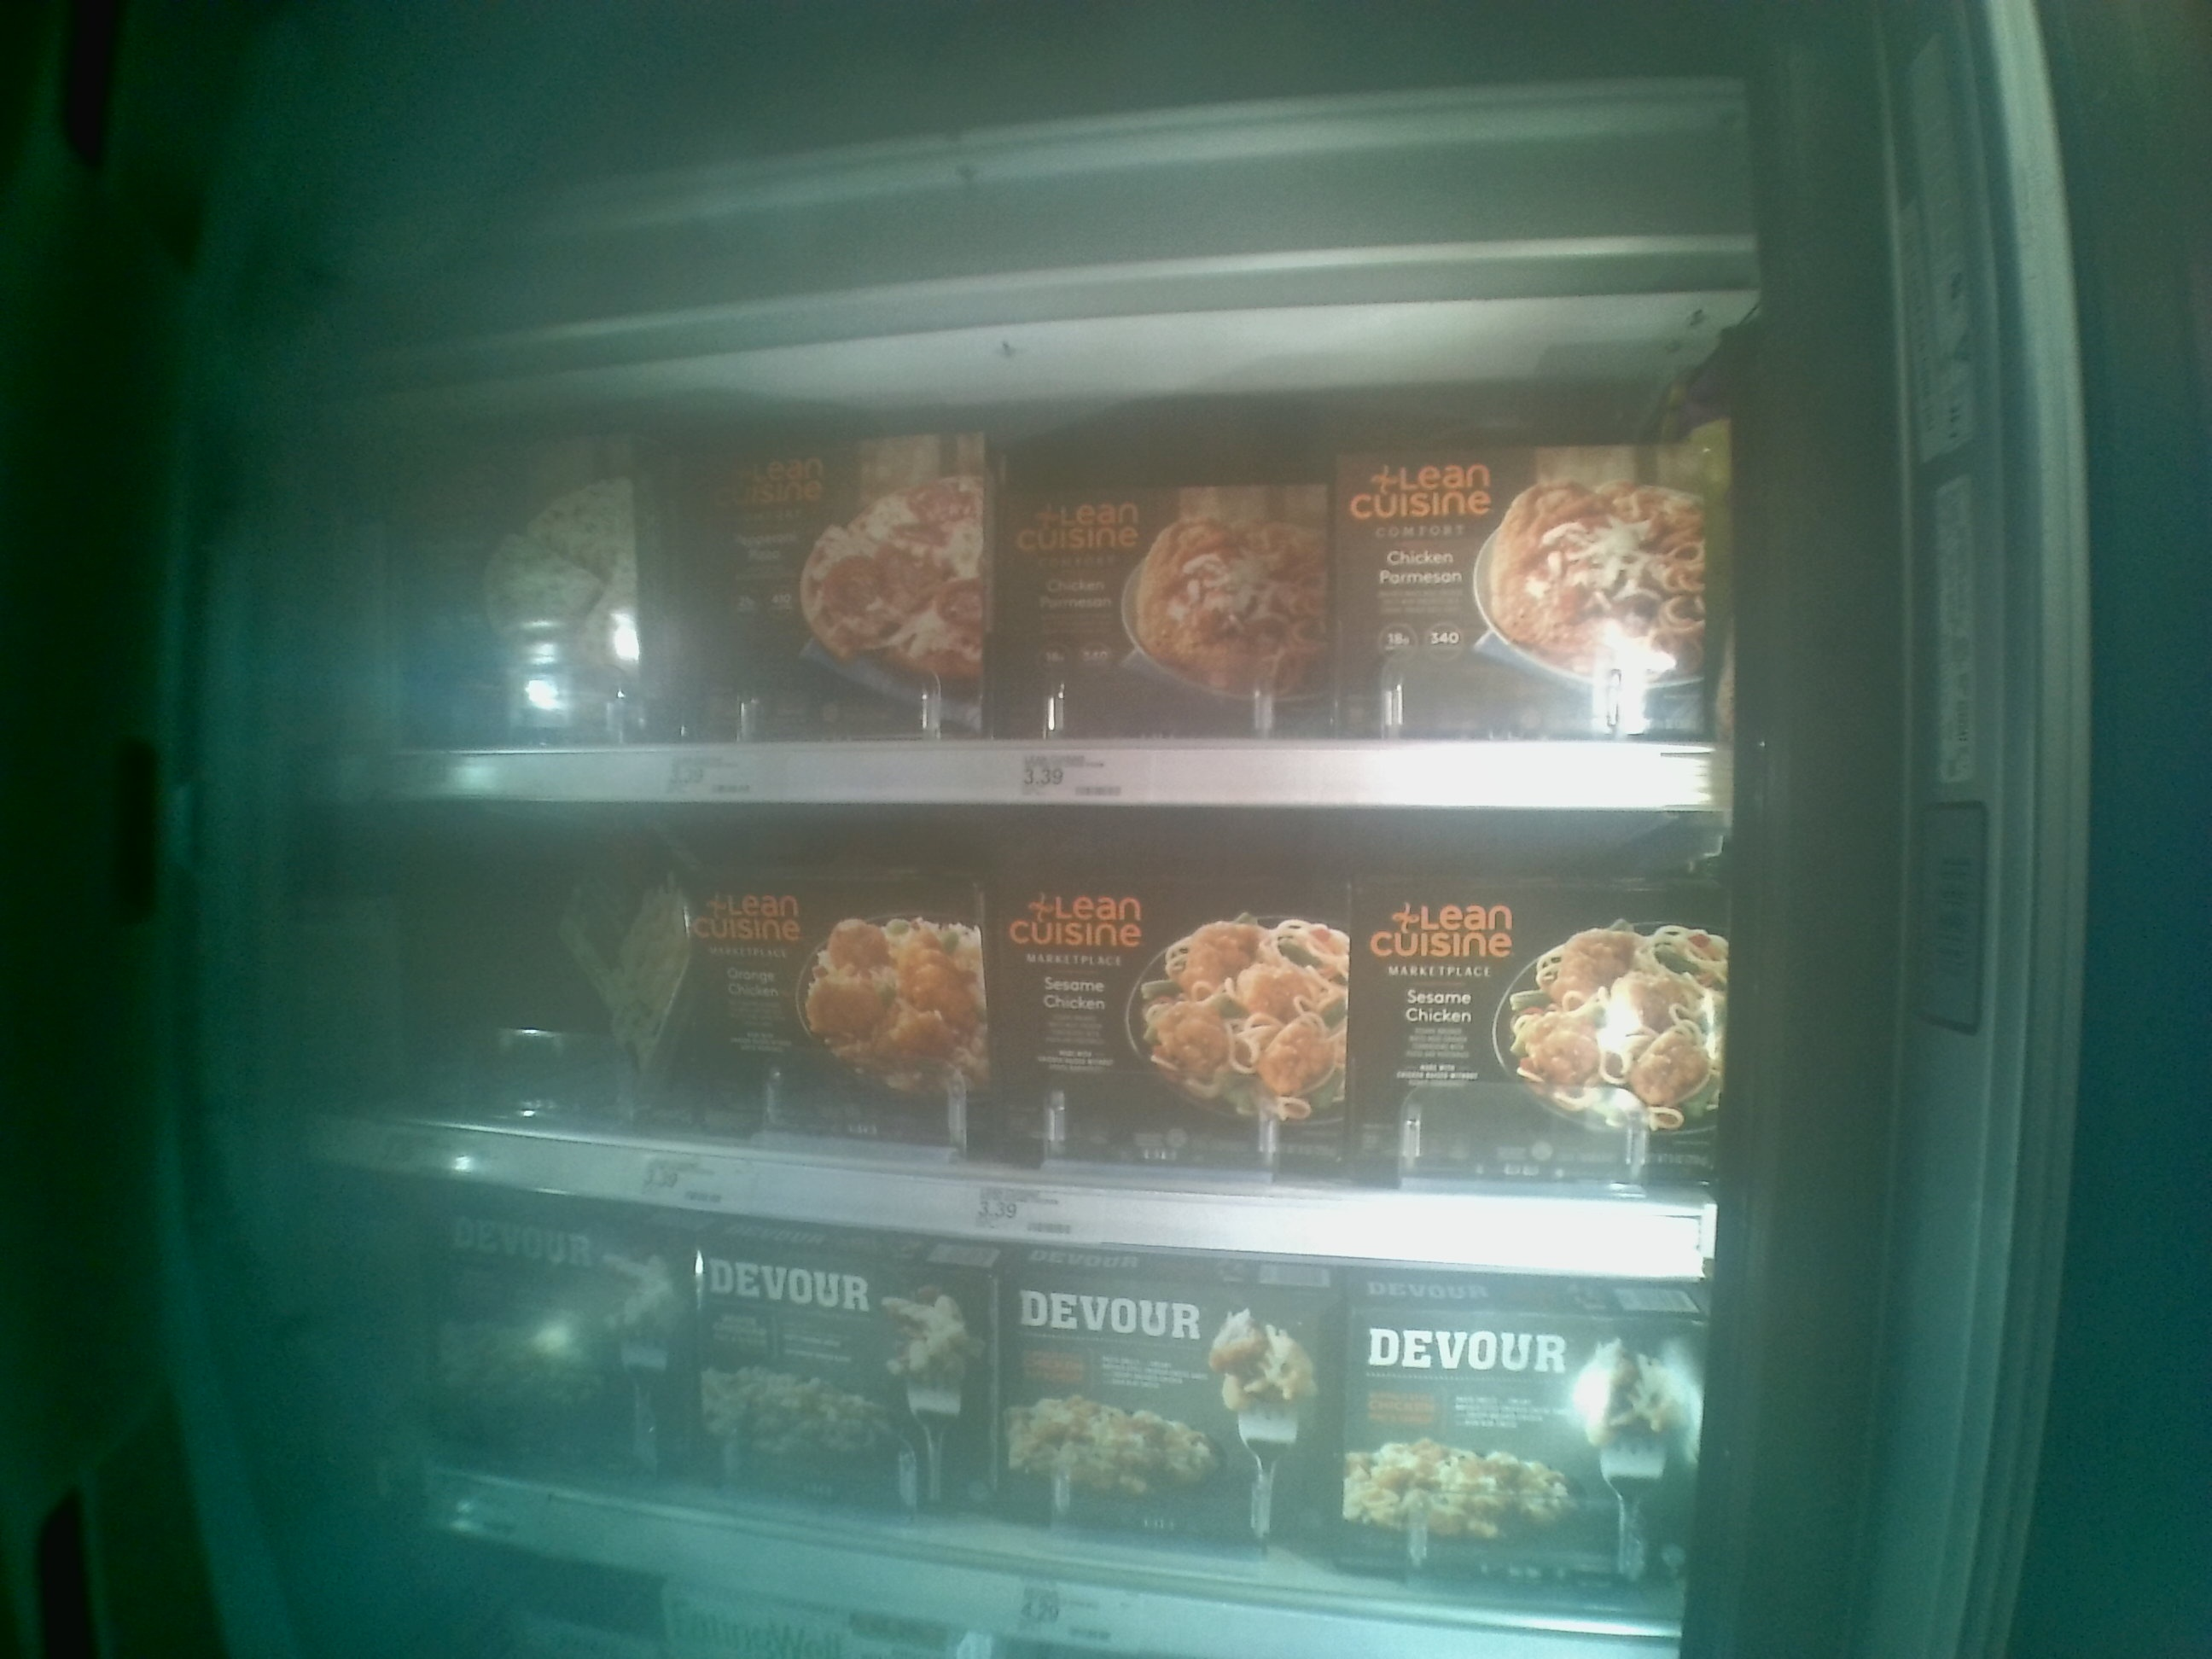shelf: (331, 807, 1721, 1288), (334, 342, 1742, 814)
